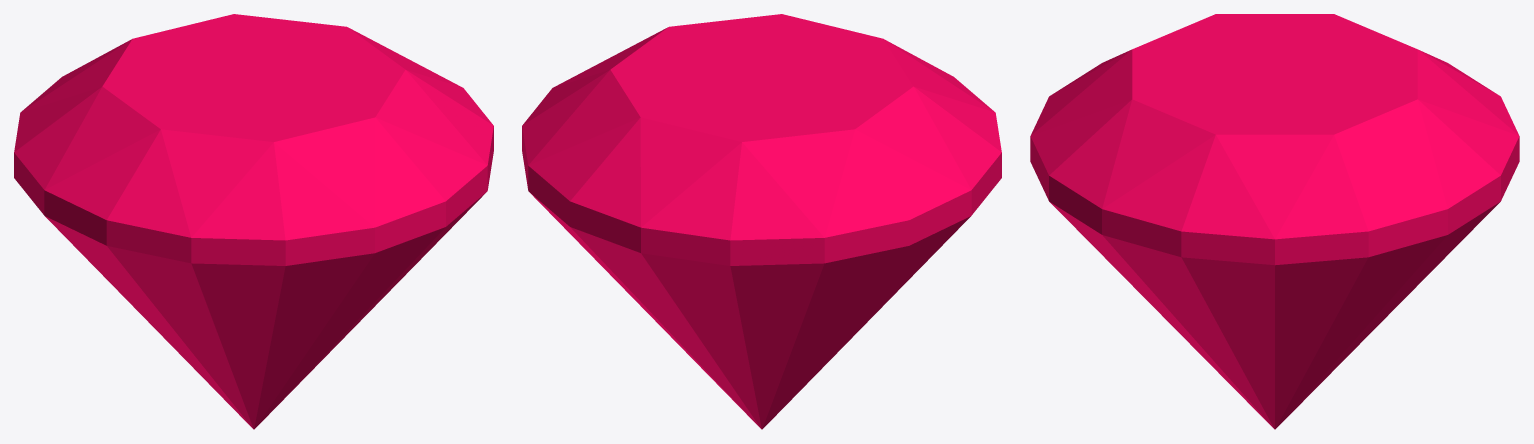
Rendered from Diamond.fbx.
3 renders of one model, left to right at view 1: azimuth 30°, elevation 25°; view 2: azimuth 150°, elevation 25°; view 3: azimuth 270°, elevation 25°, orthographic.
Visible parts, largest first — view 1: 円; view 2: 円; view 3: 円.
Boxes of the visible parts, left/top/right/bottom form: 円: left=14, top=14, right=493, bottom=429; 円: left=522, top=14, right=1001, bottom=429; 円: left=1030, top=14, right=1519, bottom=429.
Size of the model in its own units: 192 by 154 by 192.
